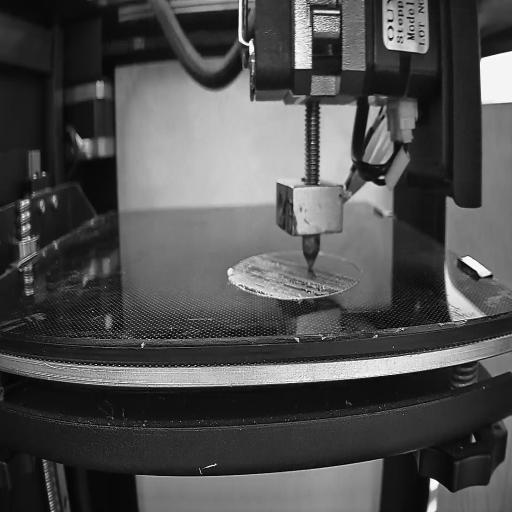under_extrusion: (285, 273, 342, 297), (238, 263, 273, 296)
